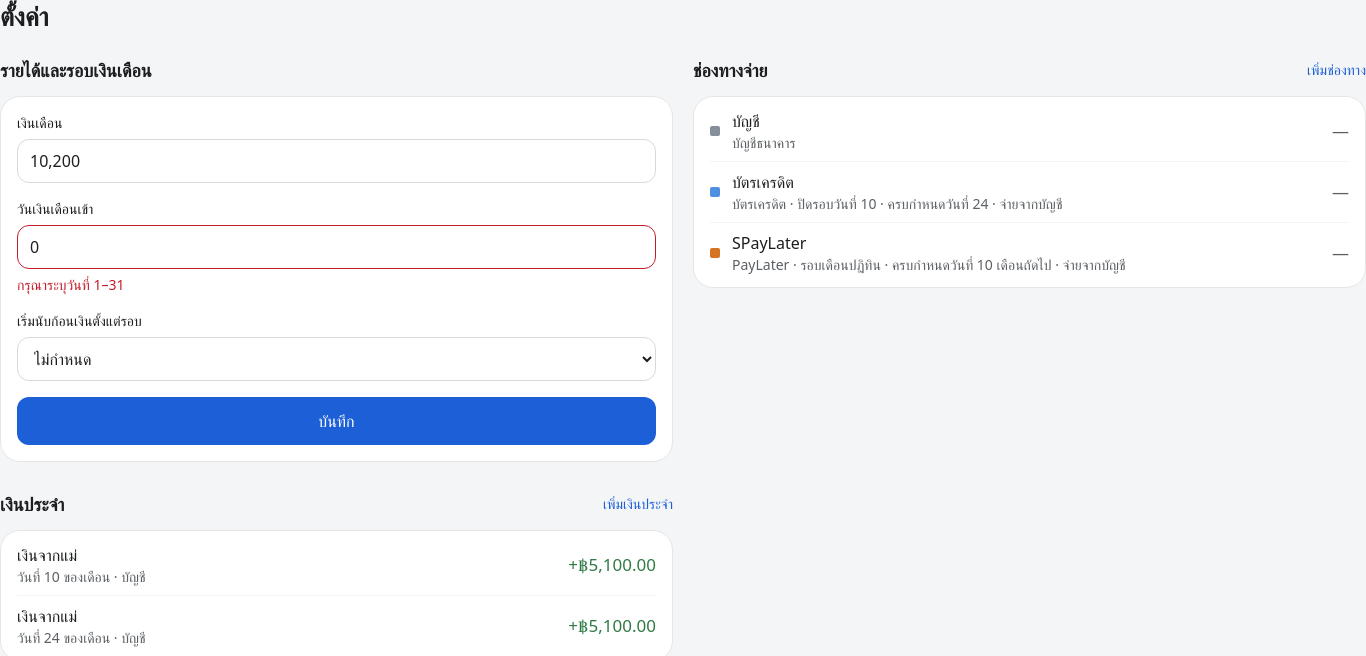
Test: <SettingsPage> › validates payDay strictly within 1–31 before saving settings
The width and height of the screenshot is (1366, 656).
Earlier steps of the test are not shown.
Later steps or results of the test are not shown.
Expected: the text "กรุณาระบุวันที่ 1–31" is shown, [17,275,124,294]
Replace the text in the field labelled "วันเงินเดือนเข้า" with "32" at (336, 247), box [17,225,656,269]
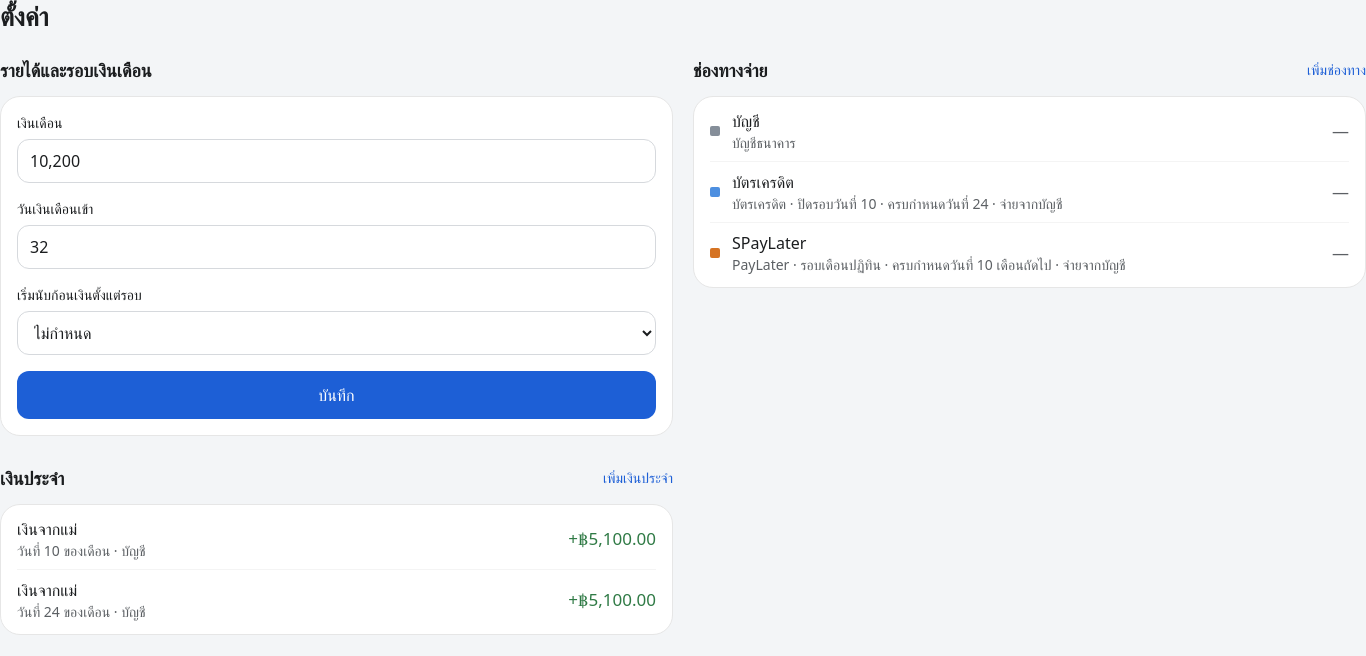
Click the button "บันทึก".
click(336, 395)  # box [17,371,656,419]
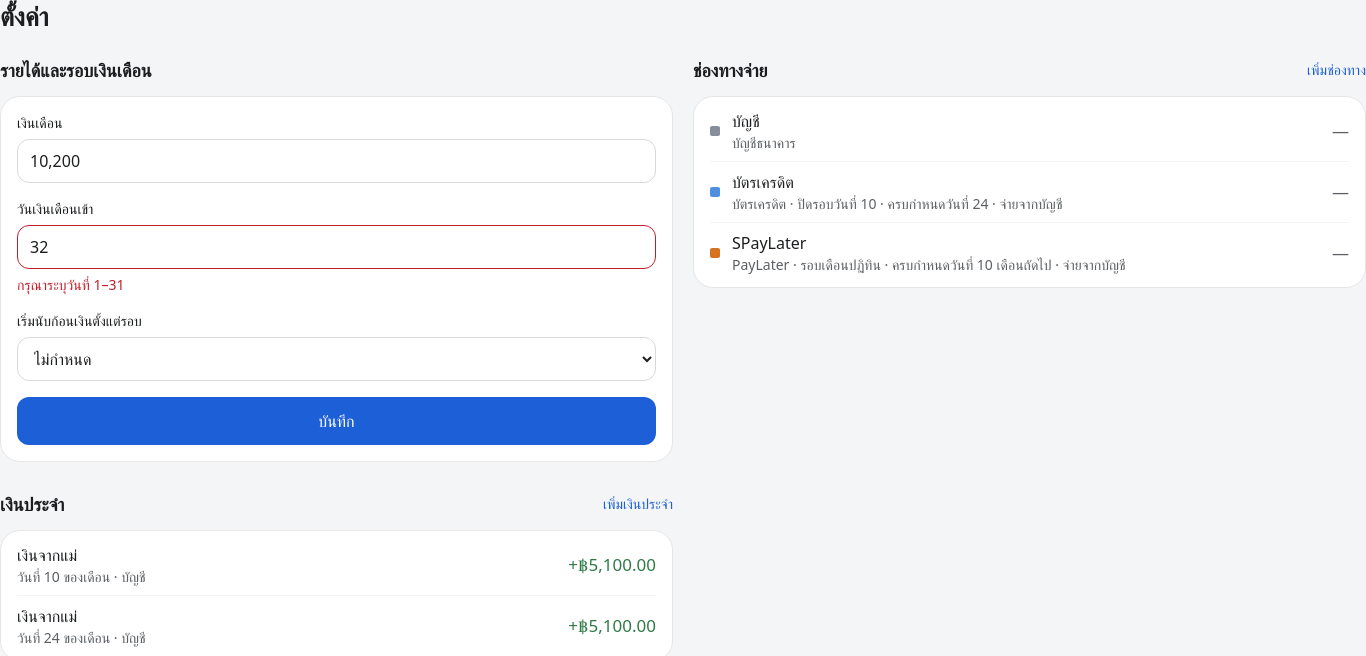
Result: the text "กรุณาระบุวันที่ 1–31" is shown at [17,275,124,294]
Replace the text in the field labelled "วันเงินเดือนเข้า" with "10.5" at (336, 247), box [17,225,656,269]
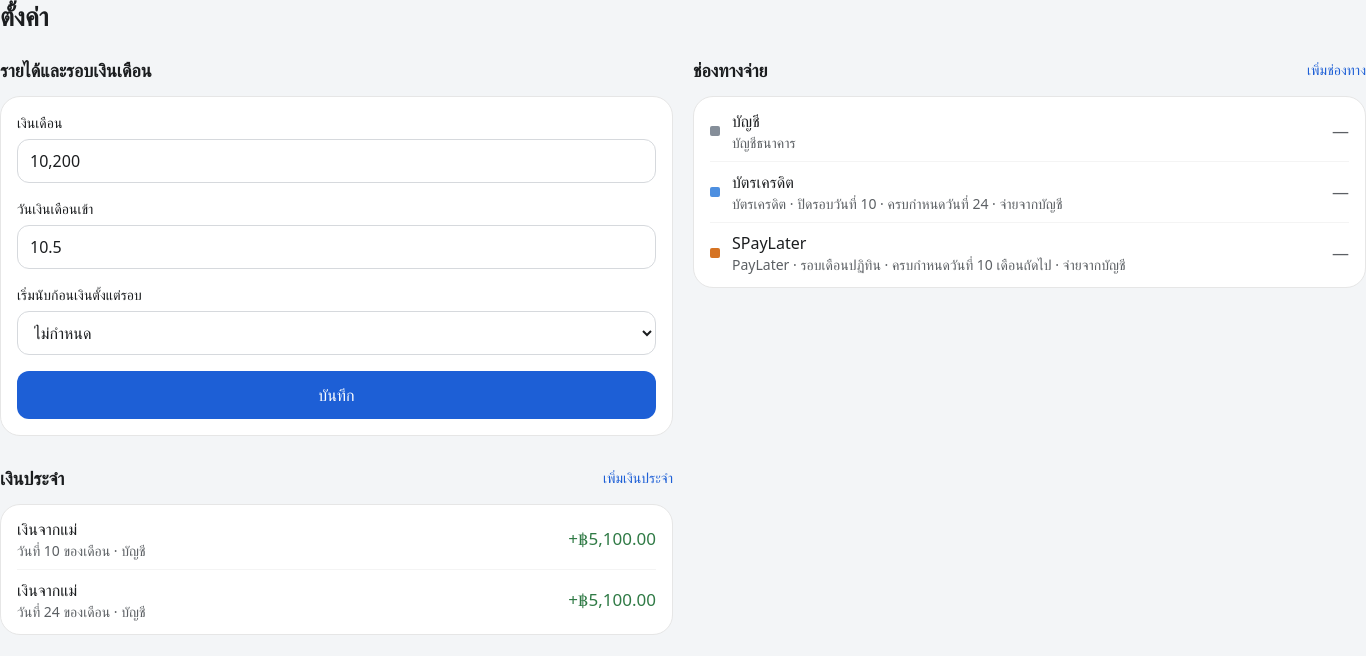
Click the button "บันทึก".
click(336, 395)  # box [17,371,656,419]
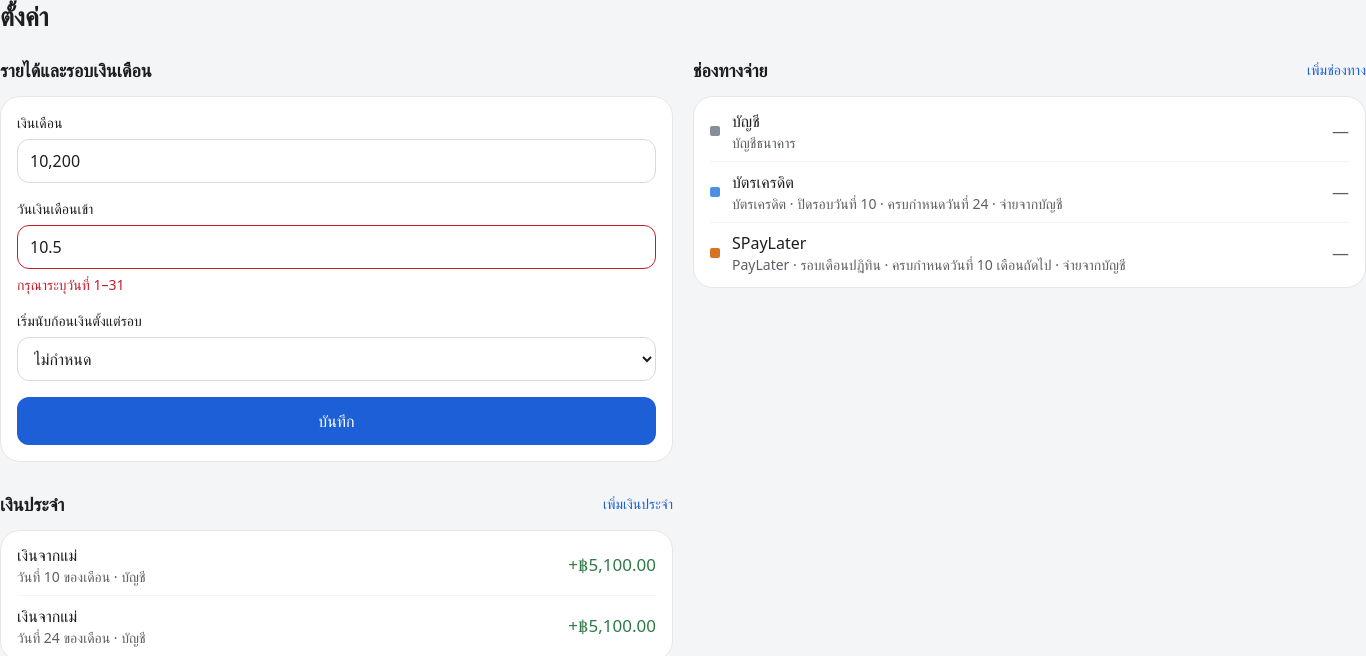
Result: the text "กรุณาระบุวันที่ 1–31" is shown at [17,275,124,294]
Clear the field labelled "วันเงินเดือนเข้า" at (336, 247), box [17,225,656,269]
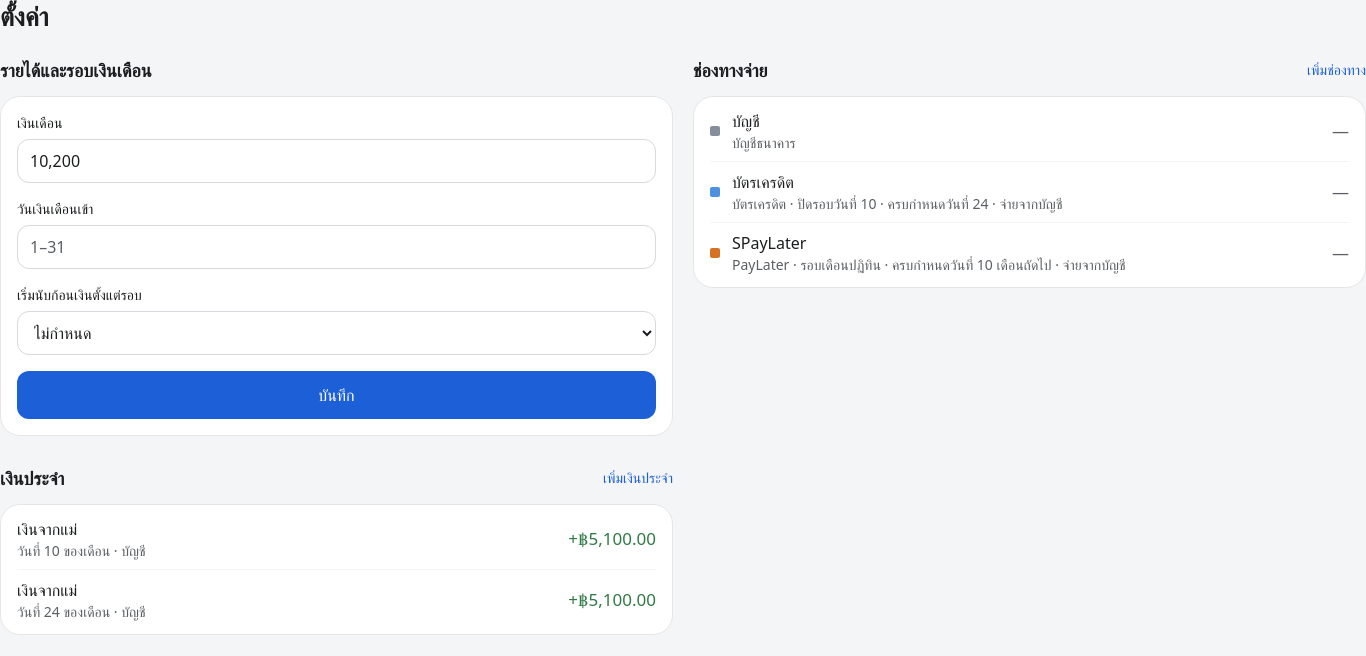
Click the button "บันทึก".
click(336, 395)  # box [17,371,656,419]
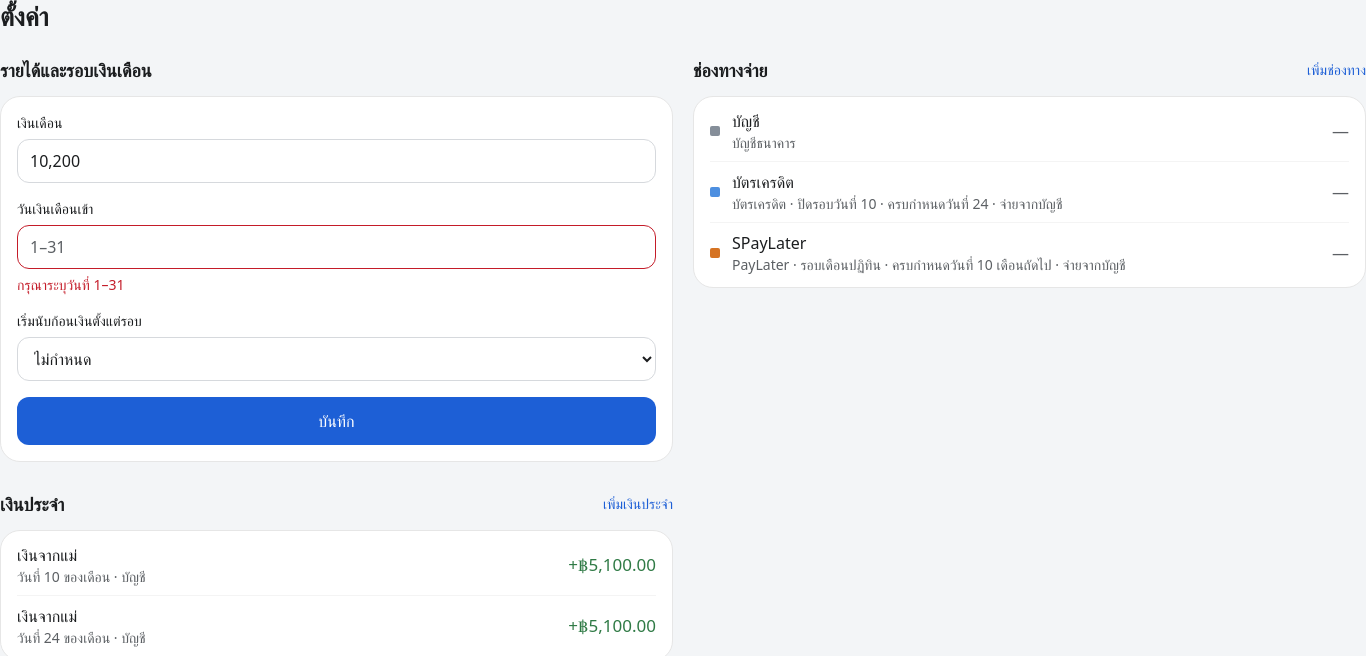
Result: the text "กรุณาระบุวันที่ 1–31" is shown at [17,275,124,294]
